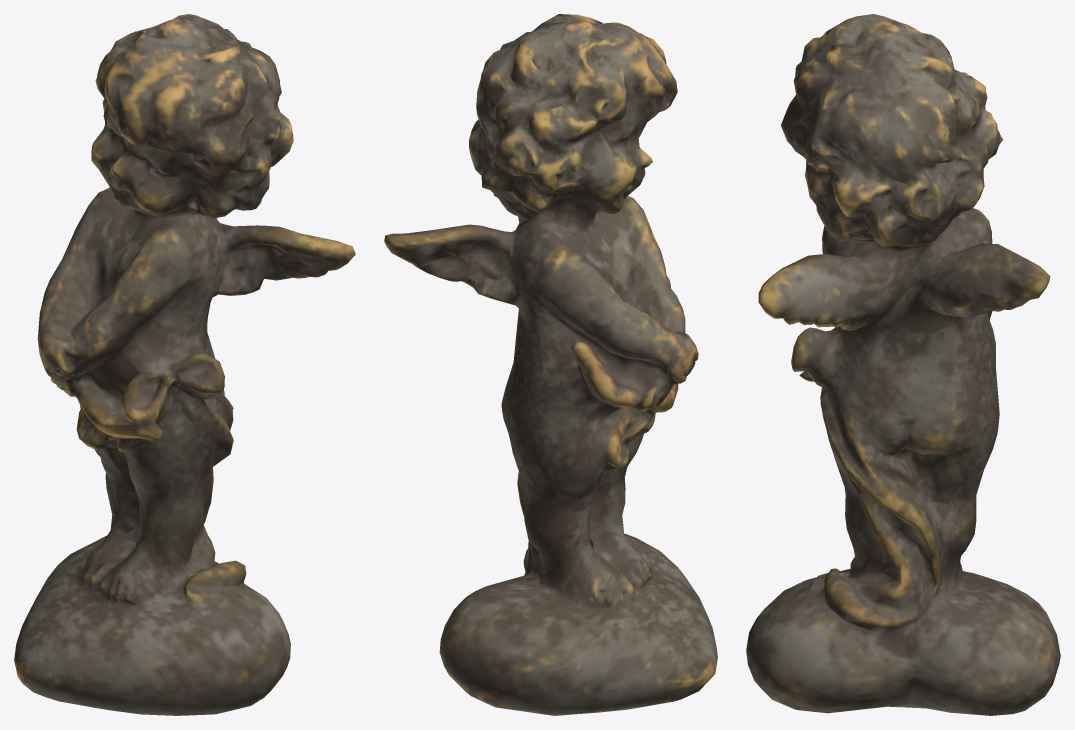
Rendered from SM_CupidStatue.fbx.
The picture shows the model from 3 angles, left to right: view 1: azimuth 30°, elevation 25°; view 2: azimuth 150°, elevation 25°; view 3: azimuth 270°, elevation 25°; orthographic projection. The views are drawn at different scales.
Visible parts, largest first — view 1: SM_CupidStatue_LOD0; view 2: SM_CupidStatue_LOD0; view 3: SM_CupidStatue_LOD0.
Part boxes in pixels (bbox=[...]): SM_CupidStatue_LOD0: bbox=[14, 14, 355, 715]; SM_CupidStatue_LOD0: bbox=[384, 14, 717, 715]; SM_CupidStatue_LOD0: bbox=[746, 14, 1060, 715].
Bounding box in the file's own units: 46.08 × 45.32 × 107.
1 material, 1 textured.
